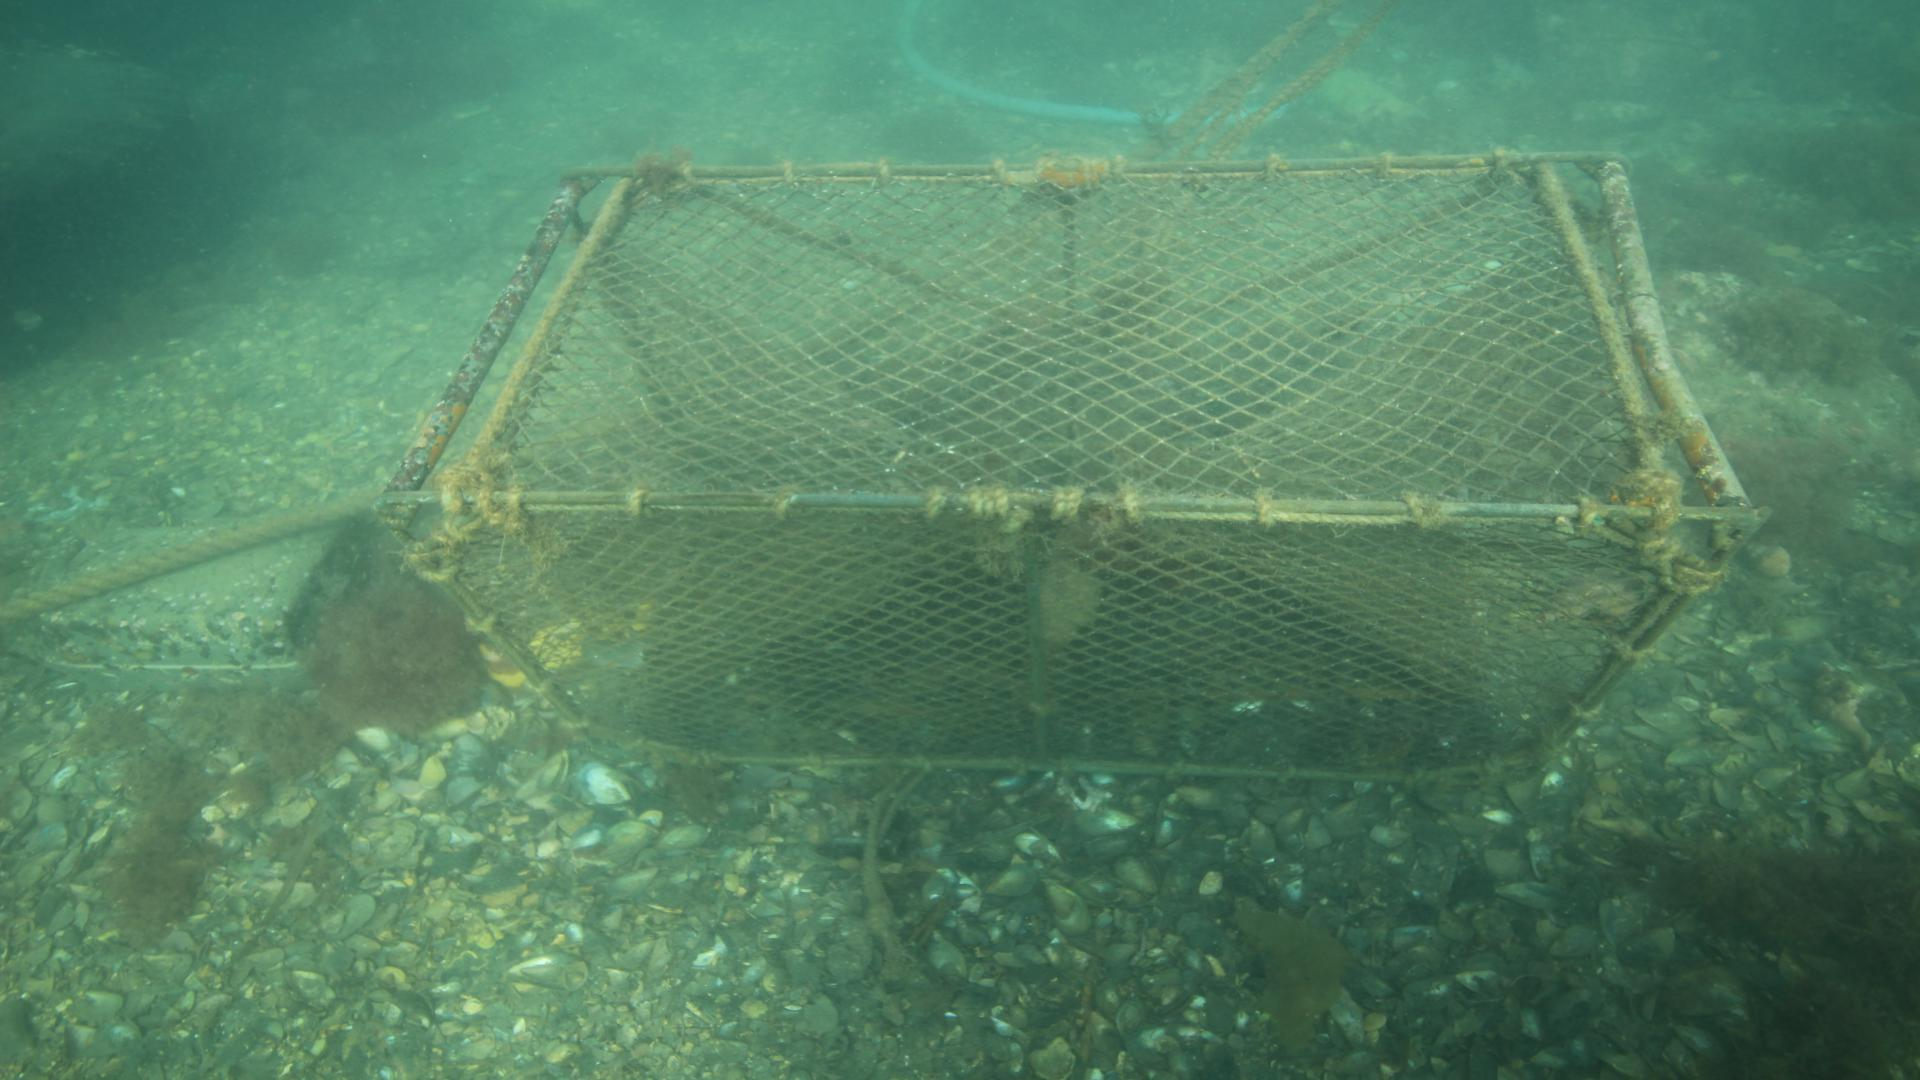bundle of ropes: (1118, 0, 1393, 152)
rectangular fish trap: (372, 142, 1772, 793)
rope: (0, 485, 382, 620)
